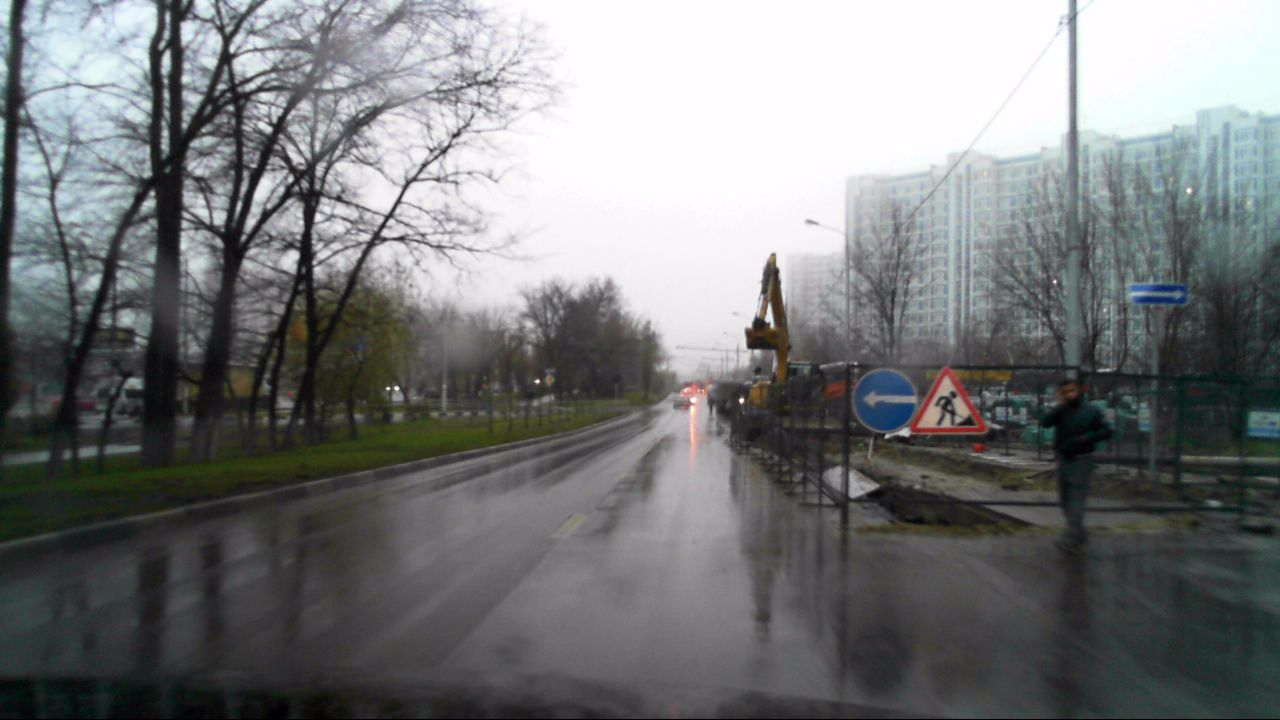One-Way Traffic: (1129, 282, 1189, 305)
Turn Left: (853, 368, 917, 432)
